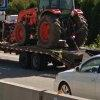Tractor: (12, 3, 98, 55)
